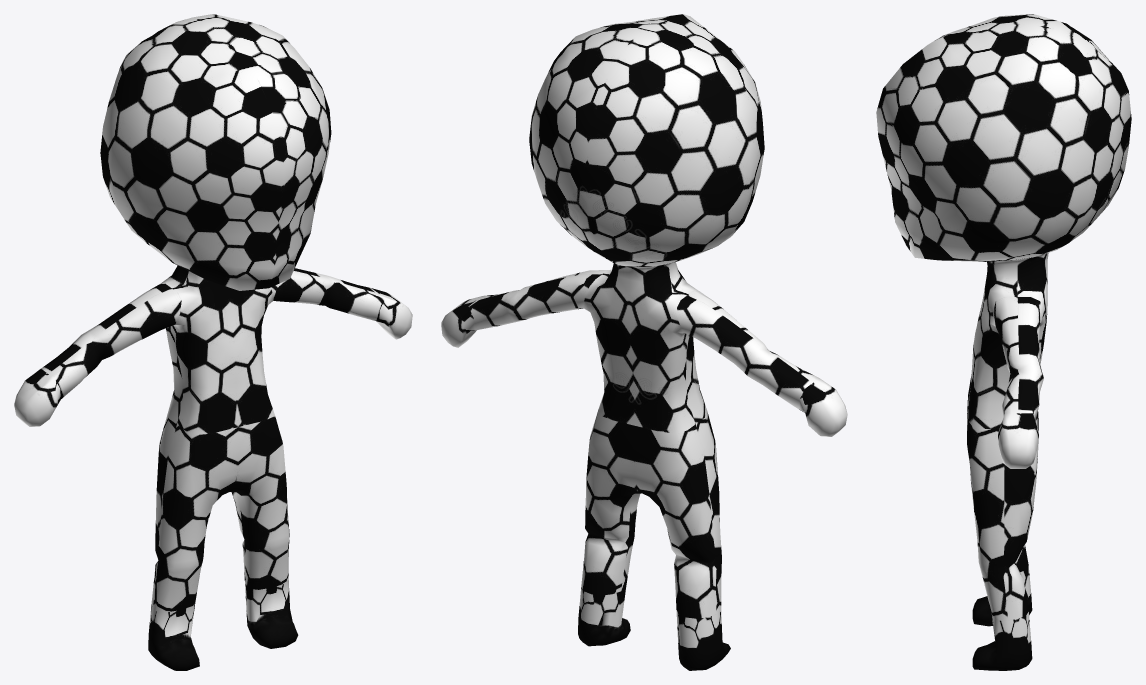
The model's file is juiz.obj.
3 views of the same model, side by side, from view 1: azimuth 30°, elevation 25°; view 2: azimuth 150°, elevation 25°; view 3: azimuth 270°, elevation 25° (orthographic).
Parts seen in each view (by area): view 1: Base_Cube; view 2: Base_Cube; view 3: Base_Cube.
Boxes of the visible parts, bbox=[...] form: Base_Cube: bbox=[14, 14, 412, 670]; Base_Cube: bbox=[441, 14, 847, 670]; Base_Cube: bbox=[876, 14, 1131, 670].
Size of the model in its own units: 4.05 by 6.08 by 2.28.
Materials: 1 (1 with a texture image).
